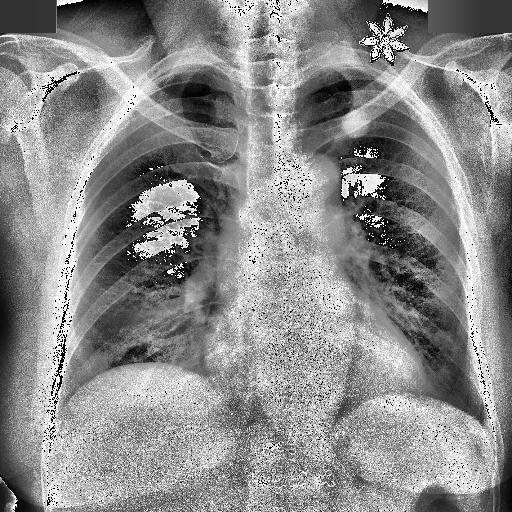0- Aortic enlargement: (279, 155, 347, 227), (270, 150, 342, 214), (285, 152, 340, 208)
11- Pleural thickening: (305, 58, 352, 82), (155, 61, 221, 76)
3- Cardiomegaly: (202, 331, 437, 408), (200, 320, 432, 396), (202, 336, 432, 408)
7- Lung Opacity: (340, 112, 370, 138)
8- Nodule-Mass: (340, 108, 372, 138), (342, 110, 372, 140), (340, 112, 370, 138), (432, 330, 455, 350), (436, 368, 452, 382)
